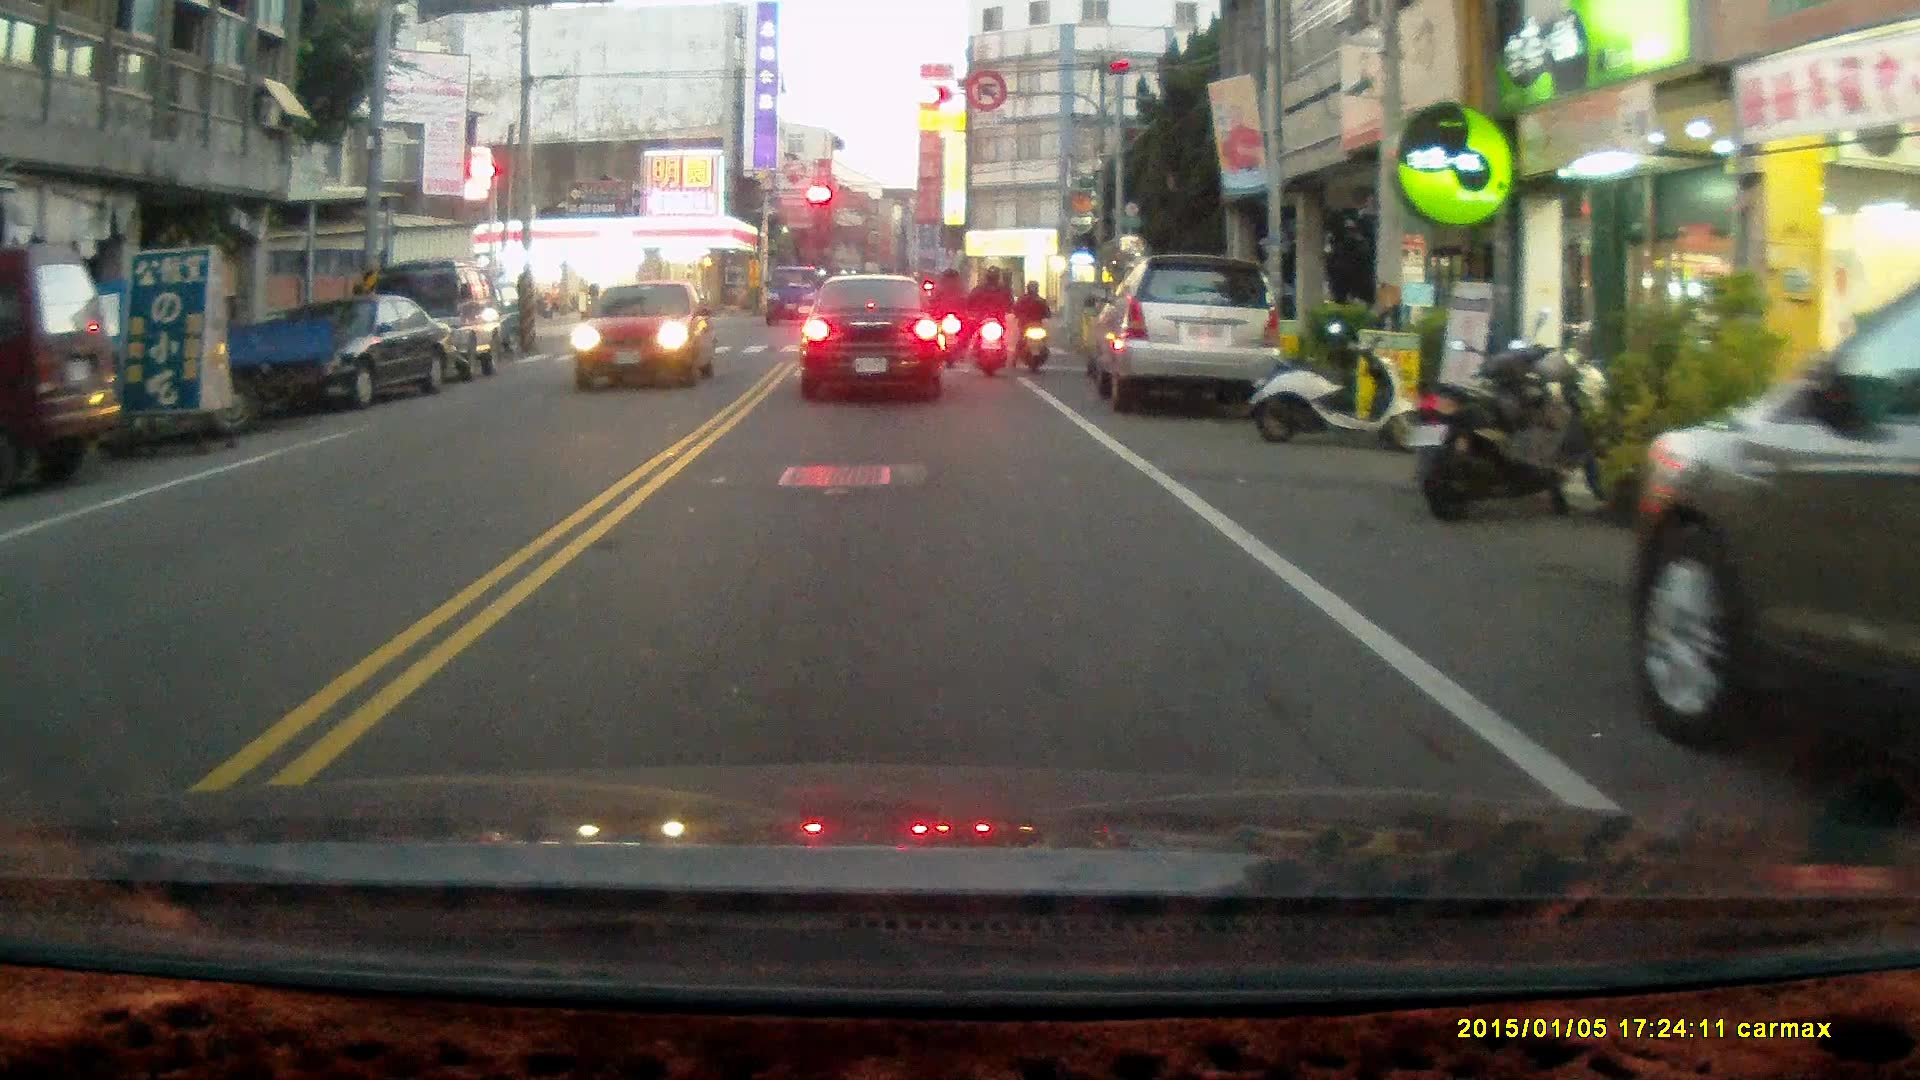rider: (963, 267, 1015, 382), (929, 268, 968, 371), (1013, 280, 1053, 378)
vehicle: (1626, 254, 1920, 824), (1089, 254, 1289, 424), (1, 243, 130, 490), (234, 293, 457, 411), (799, 273, 945, 406), (362, 256, 508, 389), (569, 280, 712, 393)
